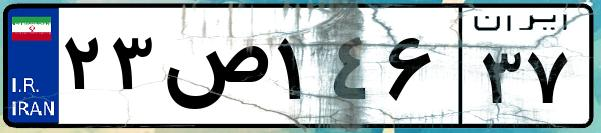1: (270, 28, 330, 110)
2: (57, 26, 110, 100)
3: (475, 38, 525, 113), (110, 28, 158, 98)
4: (330, 28, 385, 110)
6: (385, 28, 445, 110)
7: (525, 38, 570, 115)
ص: (158, 20, 270, 120)
